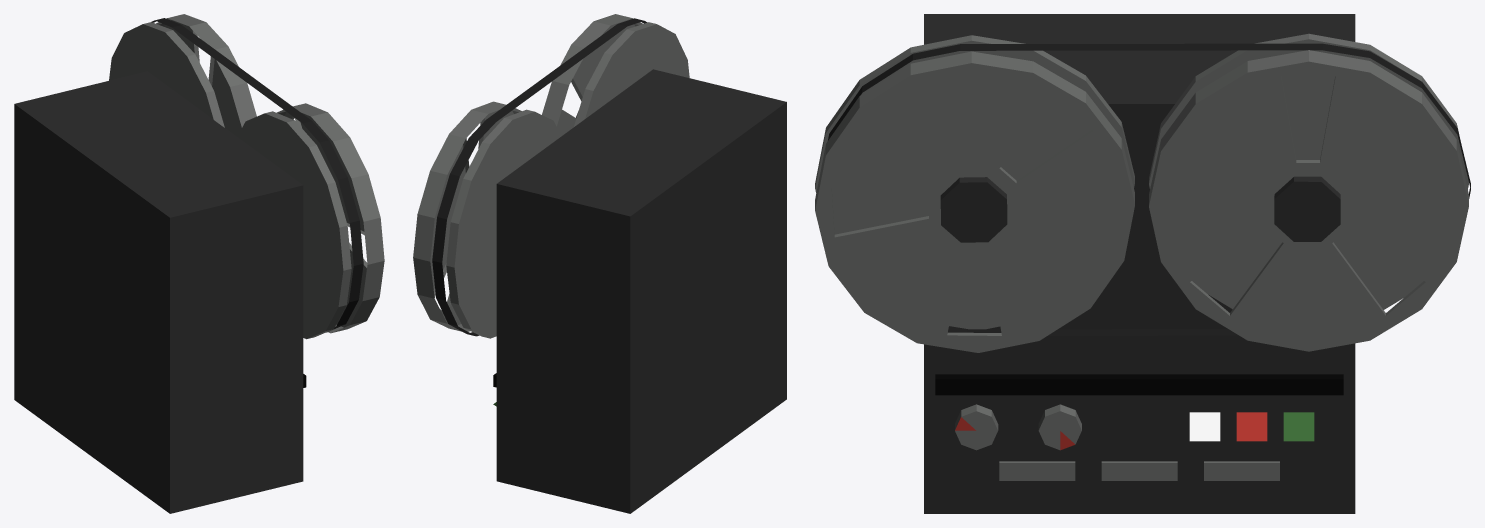
File: SM_TapeRecorder_01.glb
3 renders of one model, left to right at view 1: azimuth 30°, elevation 25°; view 2: azimuth 150°, elevation 25°; view 3: azimuth 270°, elevation 25°, orthographic. The views are drawn at different scales.
Parts seen in each view (by area): view 1: SM_TapeRecorder_01; view 2: SM_TapeRecorder_01; view 3: SM_TapeRecorder_01.
Boxes of the visible parts, x1=… form: SM_TapeRecorder_01: x1=14, y1=14, x2=384, y2=513; SM_TapeRecorder_01: x1=413, y1=14, x2=786, y2=513; SM_TapeRecorder_01: x1=815, y1=14, x2=1470, y2=513.
Bounding box in the file's own units: 0.2787 × 0.506 × 0.6254.
1 material, 1 textured.
